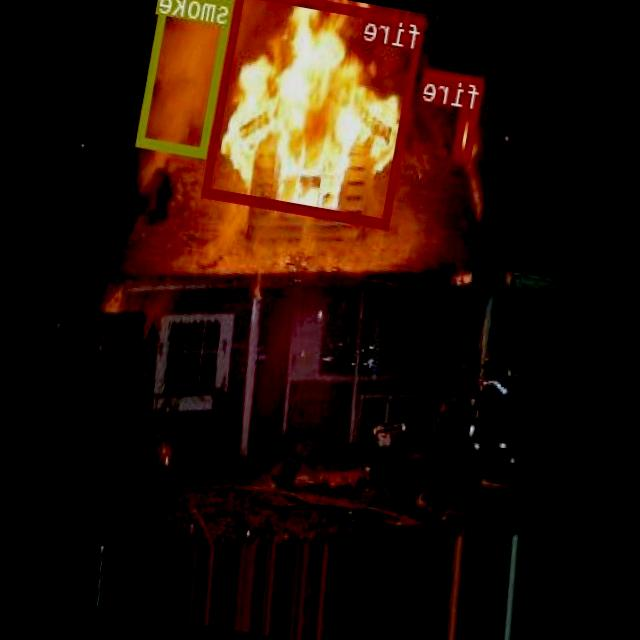fire: (202, 0, 425, 227), (454, 108, 479, 162)
smoke: (137, 0, 235, 156)
